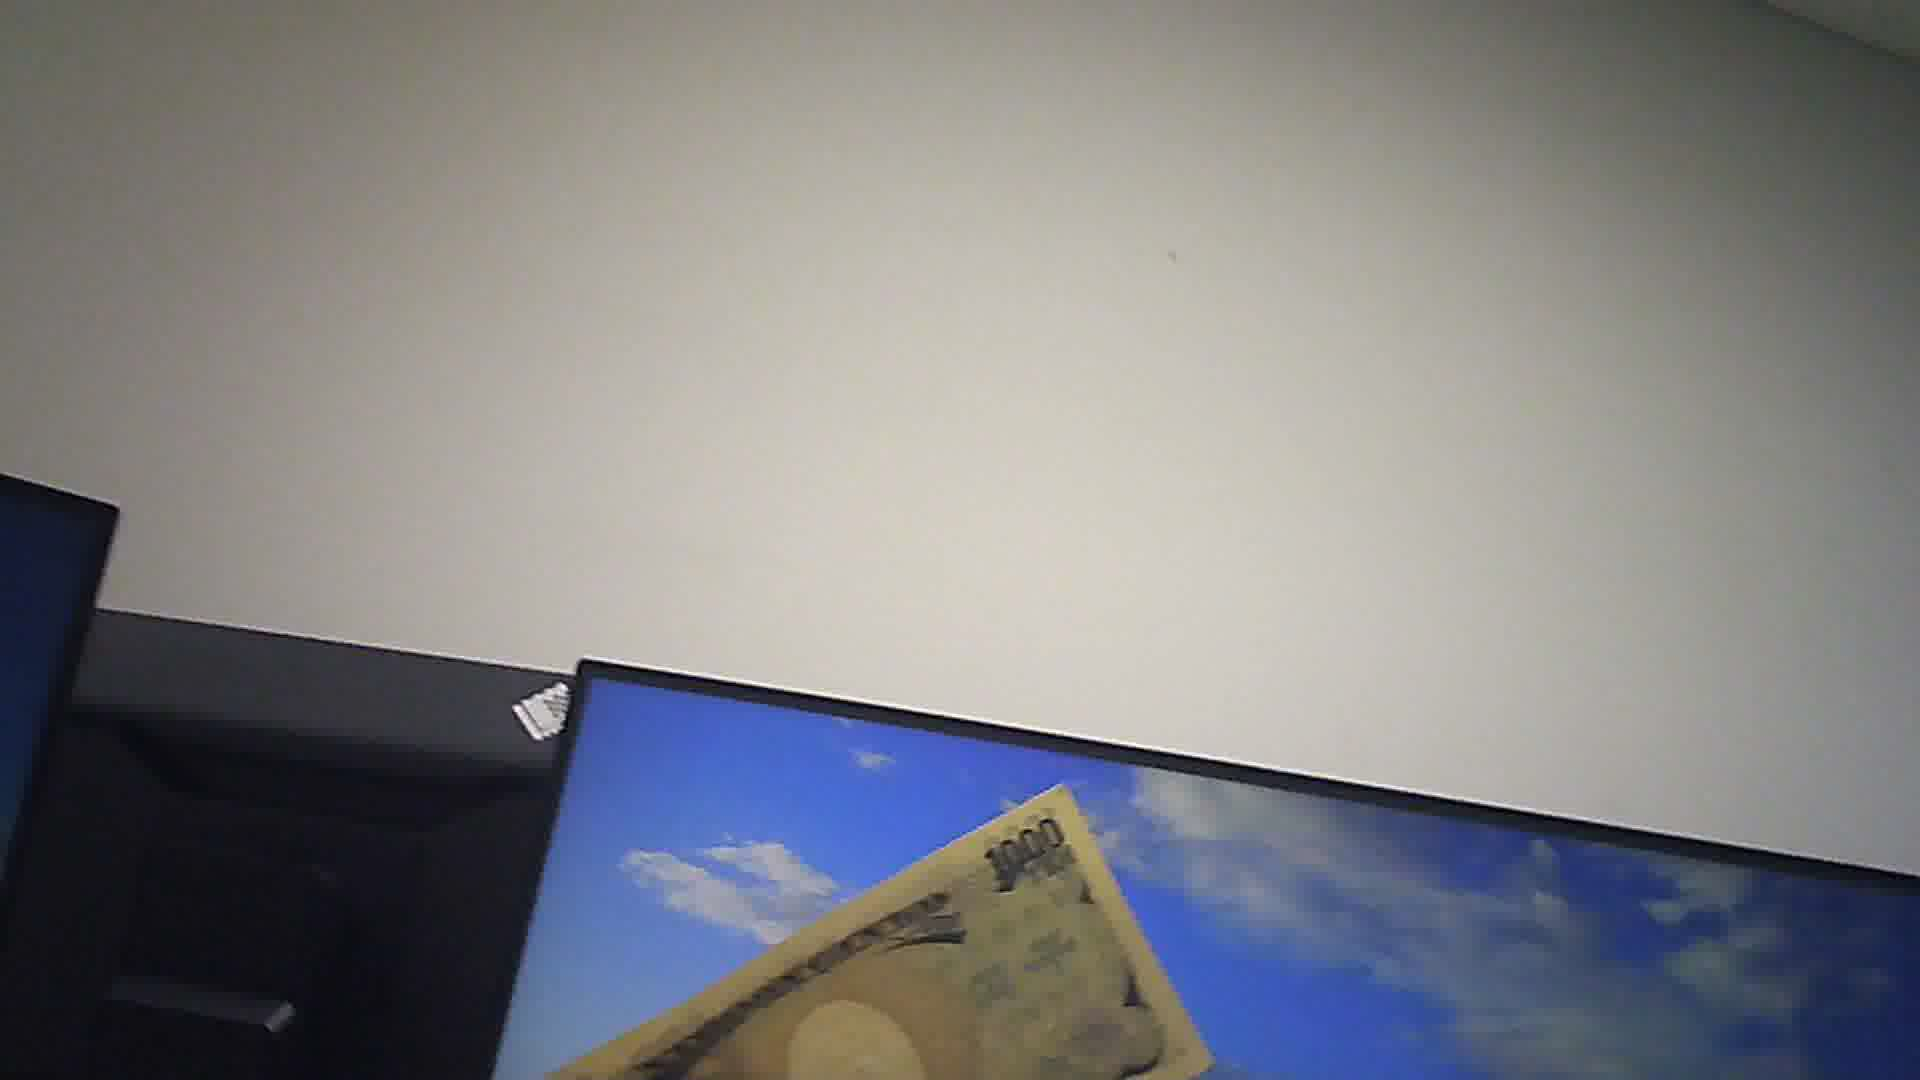1,000 Yen: (512, 773, 1193, 1079)
